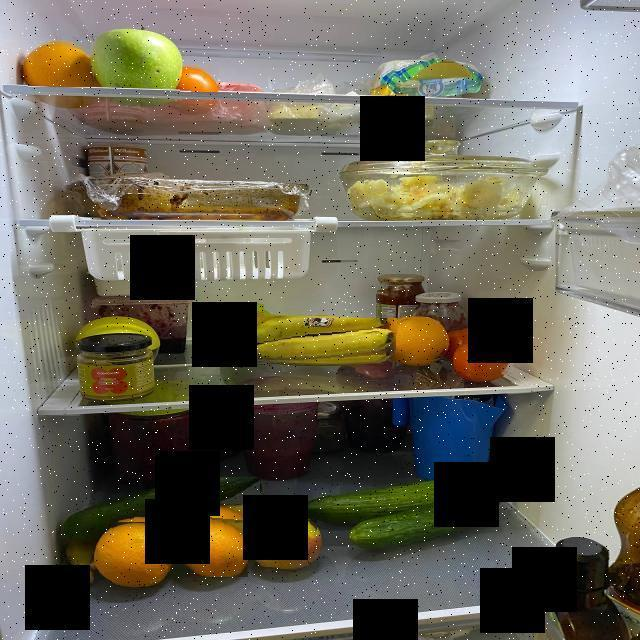apple: (254, 512, 318, 567), (214, 303, 264, 337)
banana: (218, 318, 398, 367), (62, 537, 94, 586)
cucumber: (57, 477, 260, 531), (332, 492, 517, 547), (292, 478, 488, 513)
orange: (95, 521, 176, 588), (172, 514, 248, 577), (19, 41, 94, 87), (386, 317, 449, 361)
tomato: (456, 345, 515, 378), (174, 64, 218, 92), (446, 325, 491, 351)
